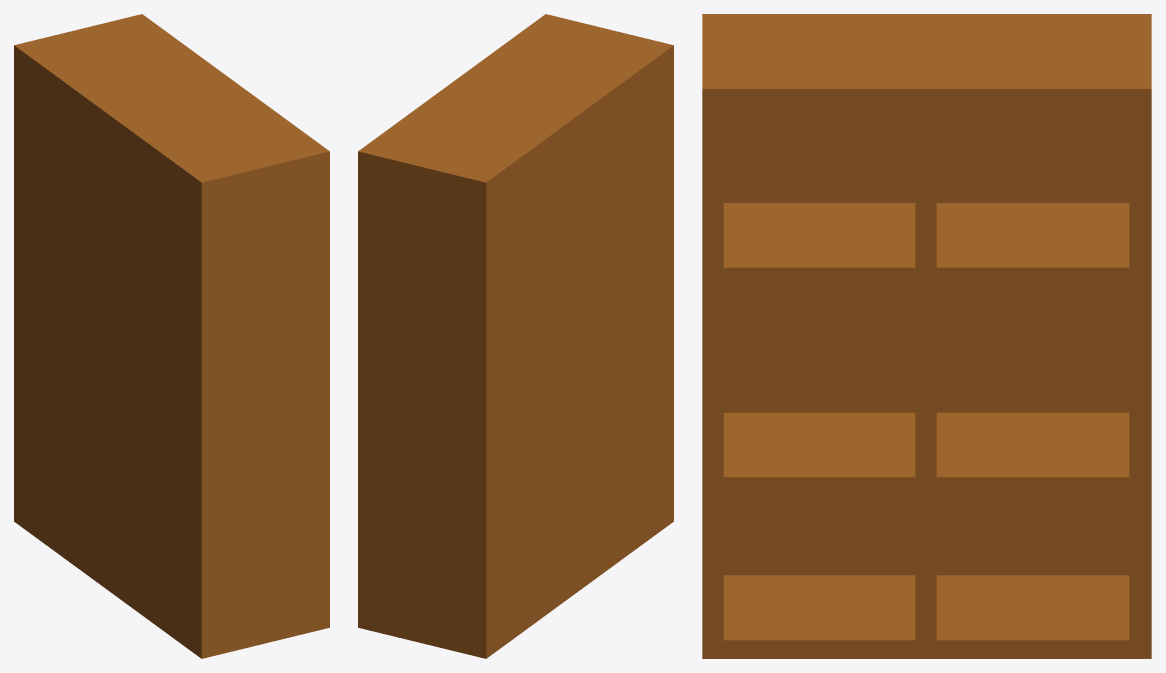
Rendered from shelf.fbx.
3 views of the same model, side by side, from view 1: azimuth 30°, elevation 25°; view 2: azimuth 150°, elevation 25°; view 3: azimuth 270°, elevation 25° (orthographic). The views are drawn at different scales.
Visible parts, largest first — view 1: Cube; view 2: Cube; view 3: Cube.
Part boxes in pixels (bbox=[...]): Cube: bbox=[14, 14, 329, 658]; Cube: bbox=[358, 14, 673, 658]; Cube: bbox=[702, 14, 1151, 658].
Size of the model in its own units: 145 by 514 by 367.
